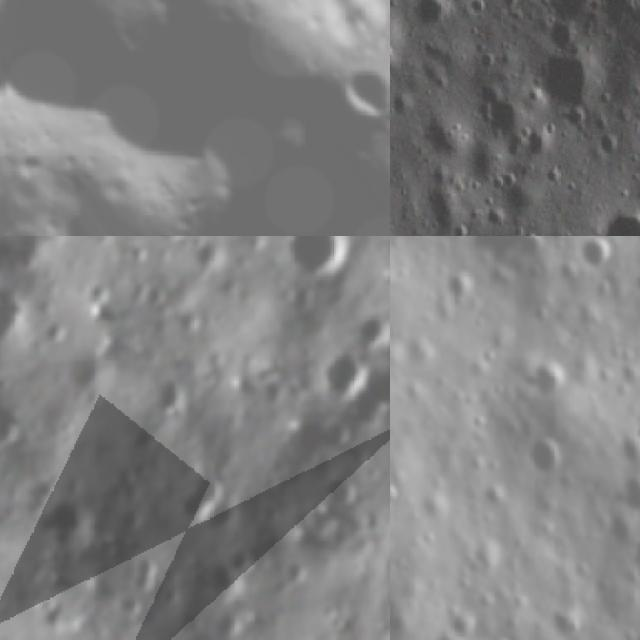crater: (28, 135, 185, 236), (320, 41, 390, 137), (532, 44, 612, 114), (309, 348, 375, 404), (290, 411, 356, 465), (282, 236, 357, 283), (50, 488, 104, 552), (468, 82, 524, 142), (515, 112, 570, 166), (176, 459, 221, 525), (462, 236, 548, 269), (593, 189, 640, 236), (521, 433, 567, 479), (0, 284, 28, 358), (360, 353, 390, 418), (524, 359, 570, 399), (431, 606, 482, 640), (324, 467, 361, 513), (189, 236, 227, 276), (354, 306, 390, 348), (412, 0, 459, 32), (580, 238, 618, 275), (543, 603, 580, 640), (440, 270, 472, 309), (390, 12, 406, 80), (620, 476, 640, 524), (390, 475, 408, 511), (478, 345, 502, 370)
